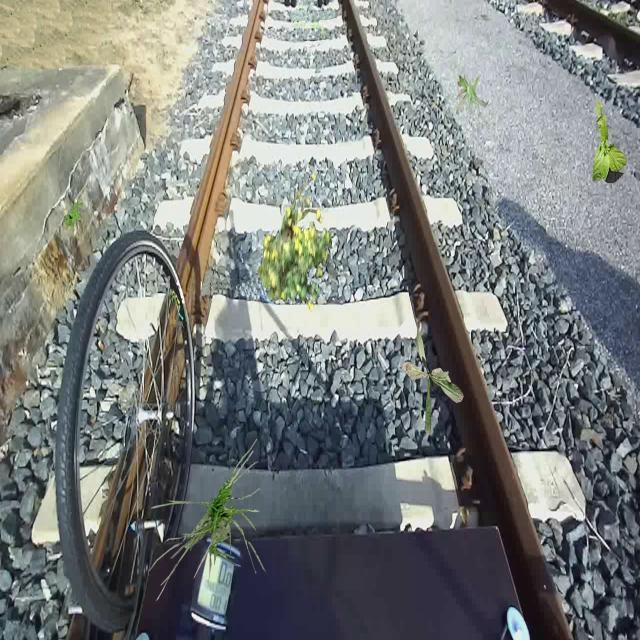Plant: (149, 439, 268, 602), (257, 172, 332, 312), (401, 324, 465, 436), (592, 100, 628, 184), (456, 74, 488, 120), (64, 198, 84, 230)
